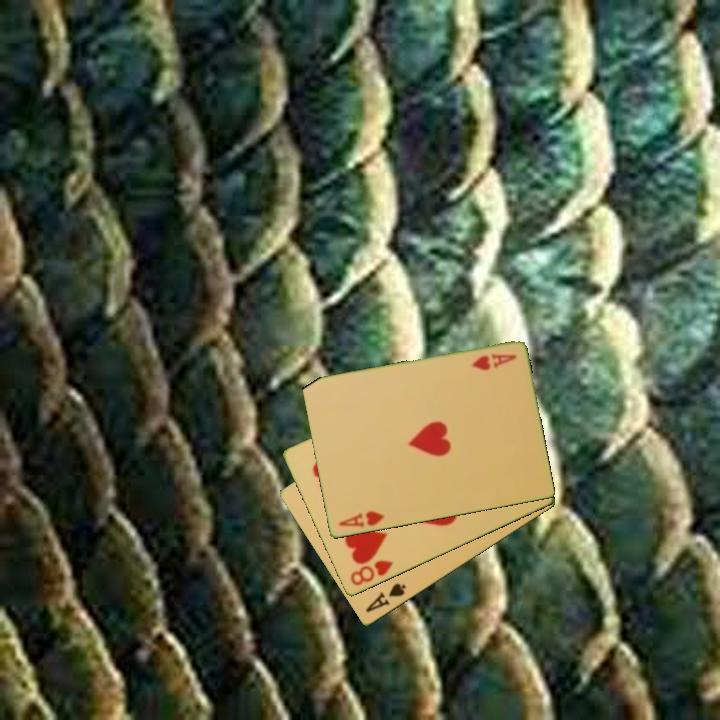8h: (347, 557, 396, 589)
Ah: (335, 508, 387, 531), (467, 350, 519, 373)
As: (362, 580, 409, 616)
